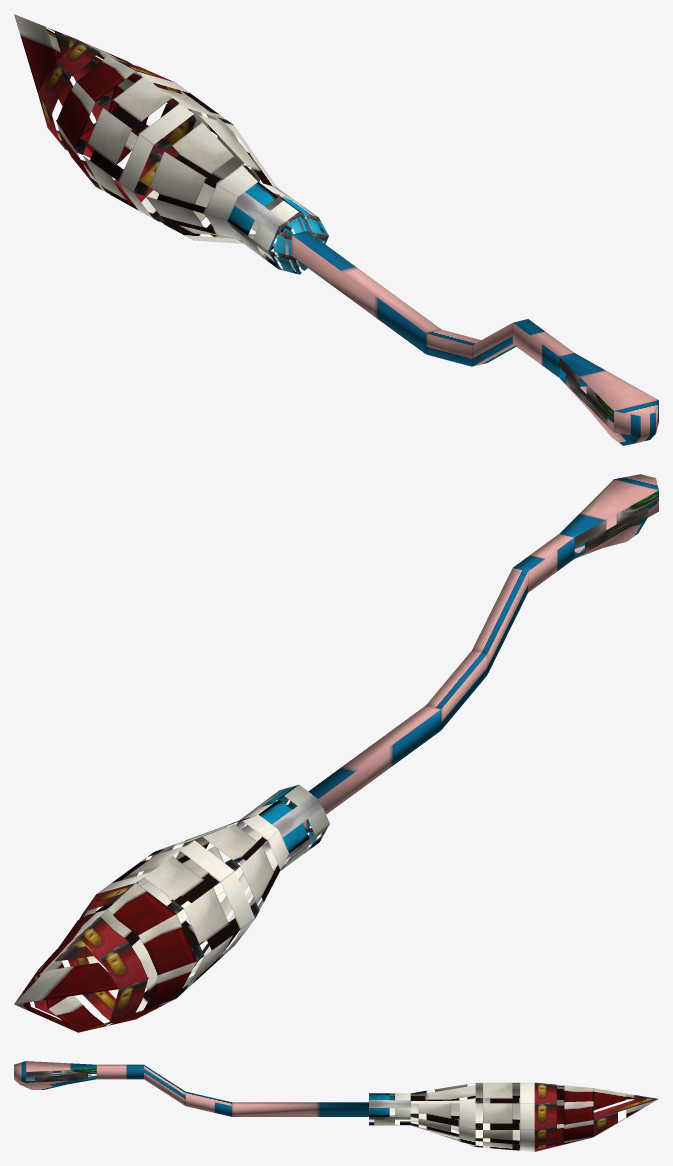
3 renders of one model, top to bottom at view 1: azimuth 30°, elevation 25°; view 2: azimuth 150°, elevation 25°; view 3: azimuth 270°, elevation 25°, orthographic. The views are drawn at different scales.
Visible parts, largest first — view 1: T1L1M003_10; view 2: T1L1M003_10; view 3: T1L1M003_10.
Part boxes in pixels (left/top/right/bottom): T1L1M003_10: left=14, top=14, right=658, bottom=445; T1L1M003_10: left=14, top=474, right=658, bottom=1032; T1L1M003_10: left=14, top=1061, right=658, bottom=1151.
Size of the model in its own units: 0.1924 by 0.2549 by 1.74.
